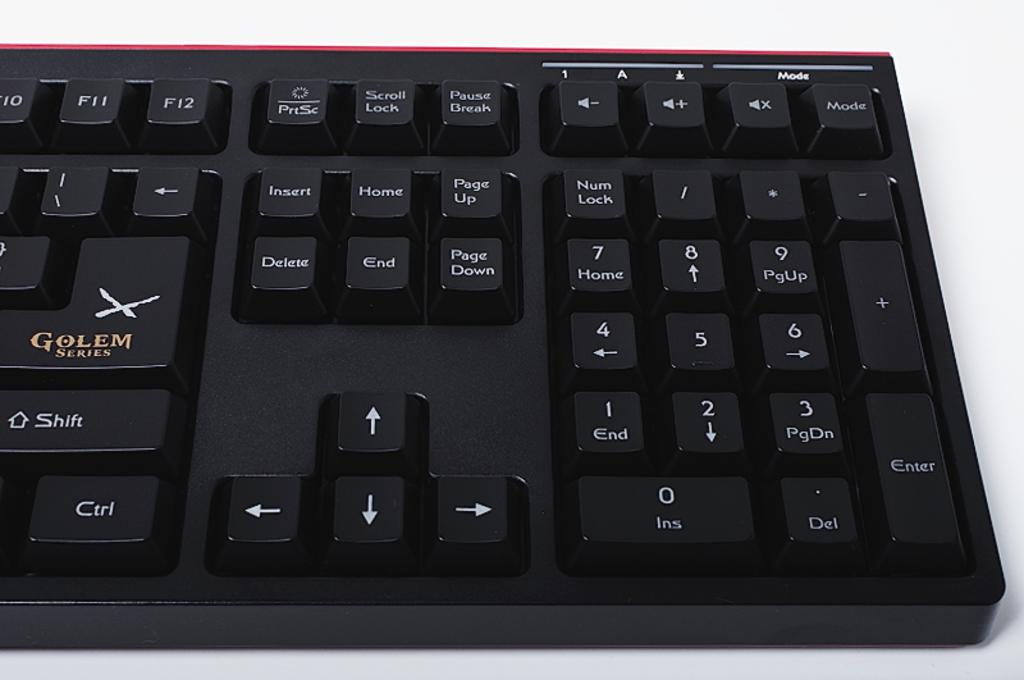Computer-keyboard: (0, 49, 1007, 649)
